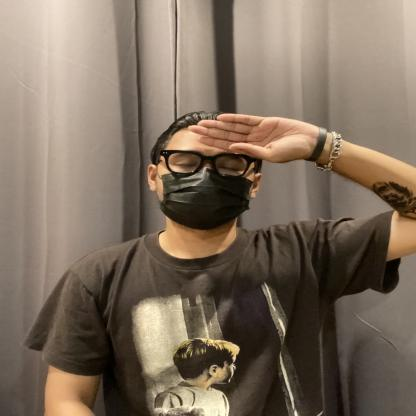Sick: (96, 89, 360, 201)
